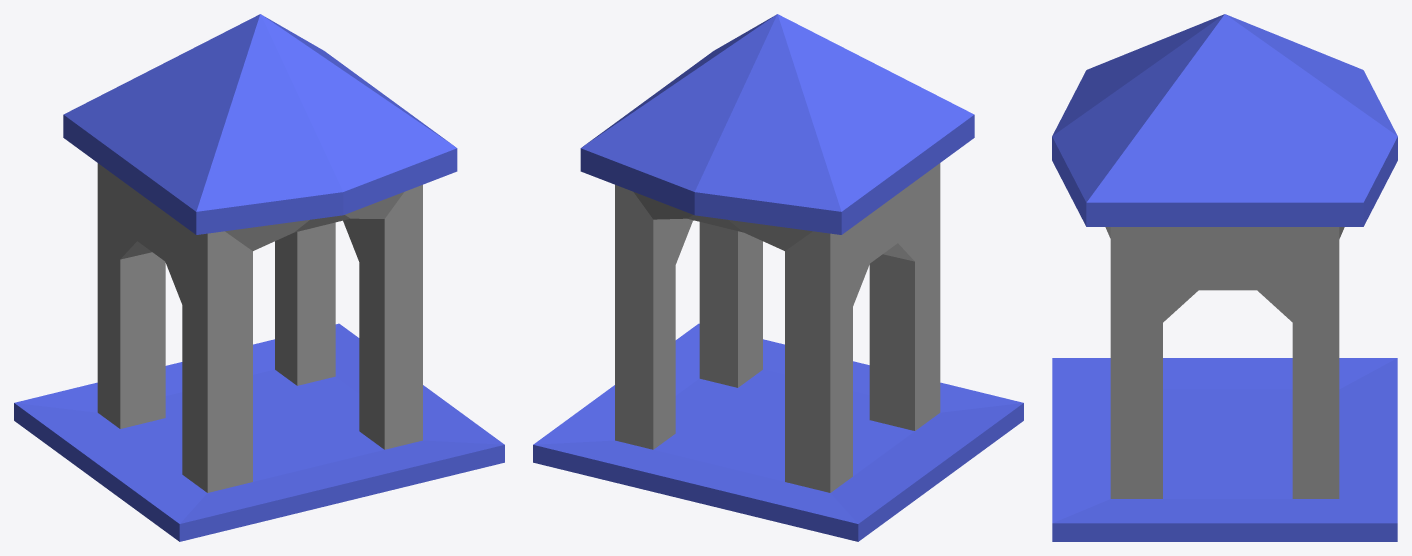
File: house6.fbx
The picture shows the model from 3 angles, left to right: view 1: azimuth 30°, elevation 25°; view 2: azimuth 150°, elevation 25°; view 3: azimuth 270°, elevation 25°; orthographic projection. The views are drawn at different scales.
Visible parts, largest first — view 1: mid_build .003; view 2: mid_build .003; view 3: mid_build .003.
Part boxes in pixels (x1,y1,x2,y2): mid_build .003: [14, 14, 504, 541]; mid_build .003: [533, 14, 1023, 541]; mid_build .003: [1052, 14, 1397, 541].
Size of the model in its own units: 2827 by 3552 by 2497.
